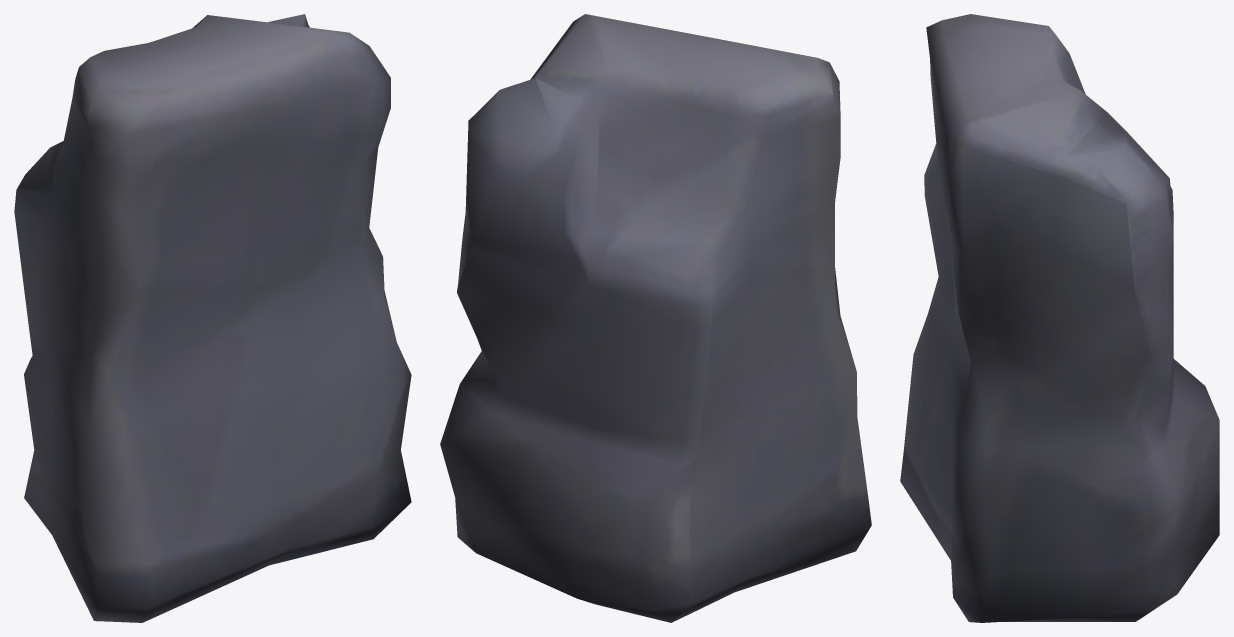
Rendered from DeepForestRock01.fbx.
The picture shows the model from 3 angles, left to right: view 1: azimuth 30°, elevation 25°; view 2: azimuth 150°, elevation 25°; view 3: azimuth 270°, elevation 25°; orthographic projection. The views are drawn at different scales.
Parts seen in each view (by area): view 1: ForestRock01; view 2: ForestRock01; view 3: ForestRock01.
Boxes of the visible parts, left/top/right/bottom form: ForestRock01: left=14, top=14, right=411, bottom=622; ForestRock01: left=440, top=14, right=871, bottom=622; ForestRock01: left=900, top=14, right=1219, bottom=622.
Size of the model in its own units: 2.17 by 3.08 by 1.83.
1 material, 1 textured.
